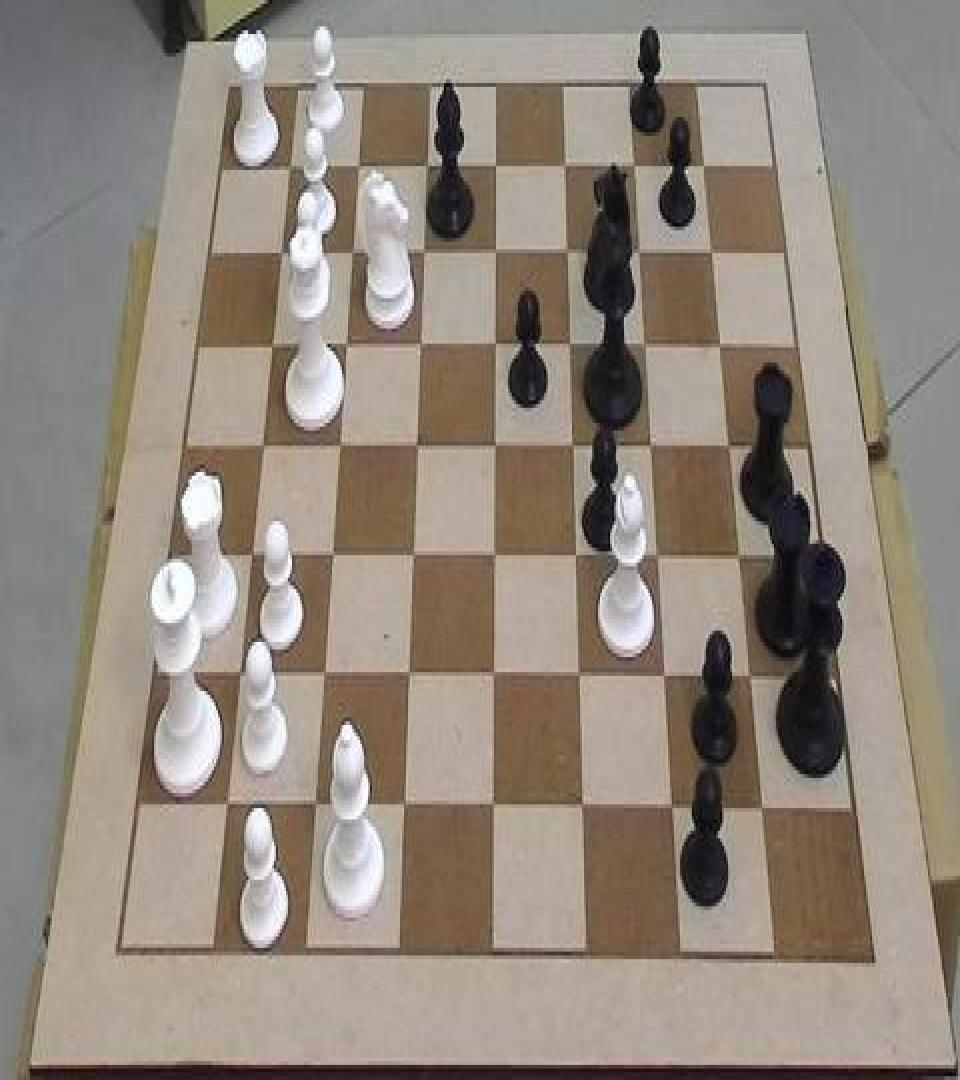xcorner: (695, 147, 715, 185), (625, 147, 645, 185), (555, 147, 575, 185), (486, 146, 506, 184), (416, 146, 436, 184), (346, 146, 366, 184), (277, 146, 297, 184), (703, 234, 723, 272), (631, 234, 651, 272), (558, 232, 578, 270), (486, 232, 506, 270), (413, 232, 433, 270), (341, 232, 361, 270), (269, 230, 289, 268), (712, 328, 732, 366), (637, 326, 657, 364), (561, 326, 581, 364), (486, 326, 506, 364), (410, 324, 430, 362), (335, 324, 355, 362), (260, 324, 280, 362), (722, 430, 742, 468), (643, 428, 663, 466), (564, 428, 584, 466), (486, 426, 506, 464), (407, 426, 427, 464), (329, 426, 349, 464), (251, 424, 271, 462), (732, 540, 752, 578), (650, 540, 670, 578), (568, 538, 588, 576), (486, 538, 506, 576), (404, 536, 424, 574), (322, 536, 342, 574), (241, 534, 261, 572), (743, 660, 763, 698), (657, 659, 677, 697), (571, 659, 591, 697), (486, 657, 506, 695), (400, 657, 420, 695), (315, 655, 335, 693), (230, 655, 250, 693), (755, 793, 775, 831), (665, 791, 685, 829), (575, 791, 595, 829), (486, 789, 506, 827), (396, 787, 416, 825), (307, 787, 327, 825), (218, 786, 238, 824)
